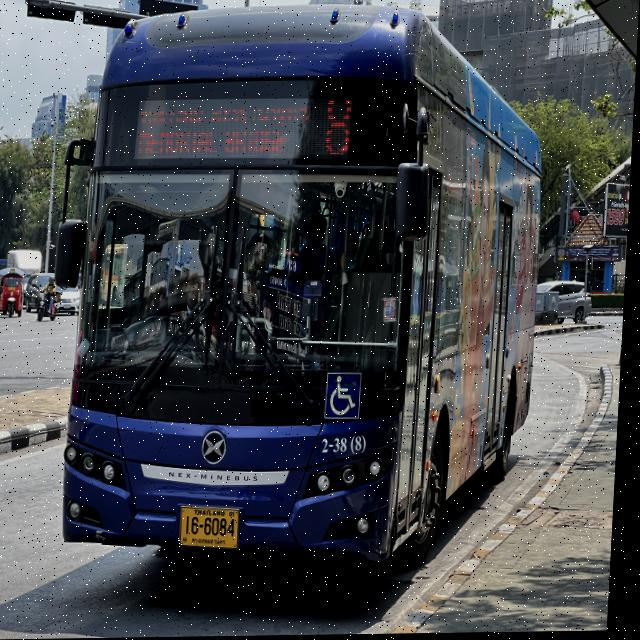Bus-Line-Number: (314, 85, 366, 168)
Destination-Sign-Normal: (132, 94, 314, 169)
TSB-Bus: (63, 3, 553, 577)
